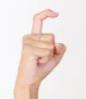anticlockwise: (16, 7, 69, 84)
